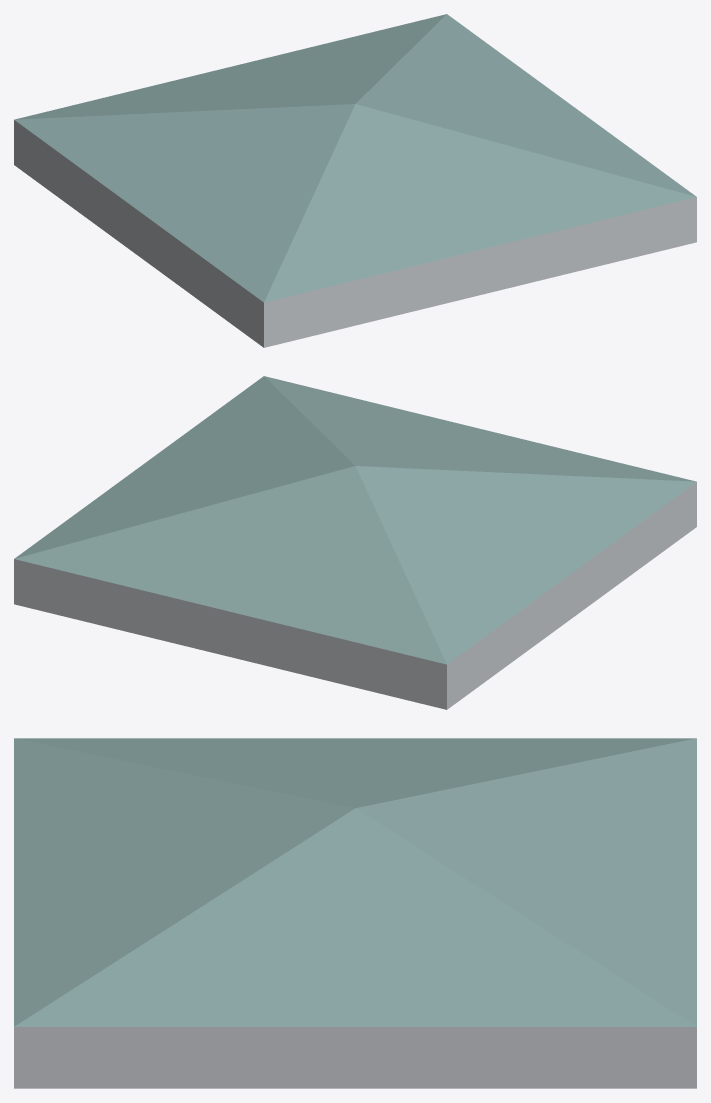
The model's file is naturePack_005.gltf.
The picture shows the model from 3 angles, top to bottom: view 1: azimuth 30°, elevation 25°; view 2: azimuth 150°, elevation 25°; view 3: azimuth 270°, elevation 25°; orthographic projection. The views are drawn at different scales.
Parts seen in each view (by area): view 1: Mesh1 Plate_Grass Model; view 2: Mesh1 Plate_Grass Model; view 3: Mesh1 Plate_Grass Model.
Boxes of the visible parts, box(x1,y1,x2,y2) form: Mesh1 Plate_Grass Model: box(14, 14, 696, 347); Mesh1 Plate_Grass Model: box(14, 376, 696, 709); Mesh1 Plate_Grass Model: box(14, 738, 696, 1088).
Size of the model in its own units: 3 by 0.66 by 3.
